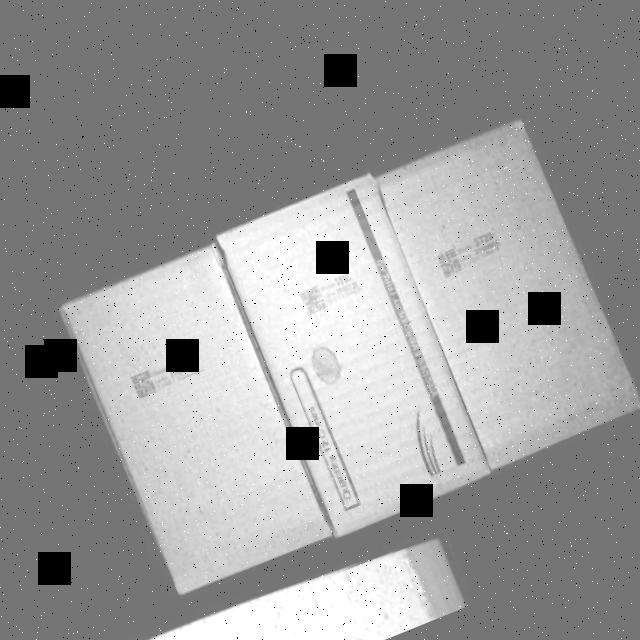box: (223, 173, 496, 532), (64, 242, 336, 598), (382, 128, 640, 468)
